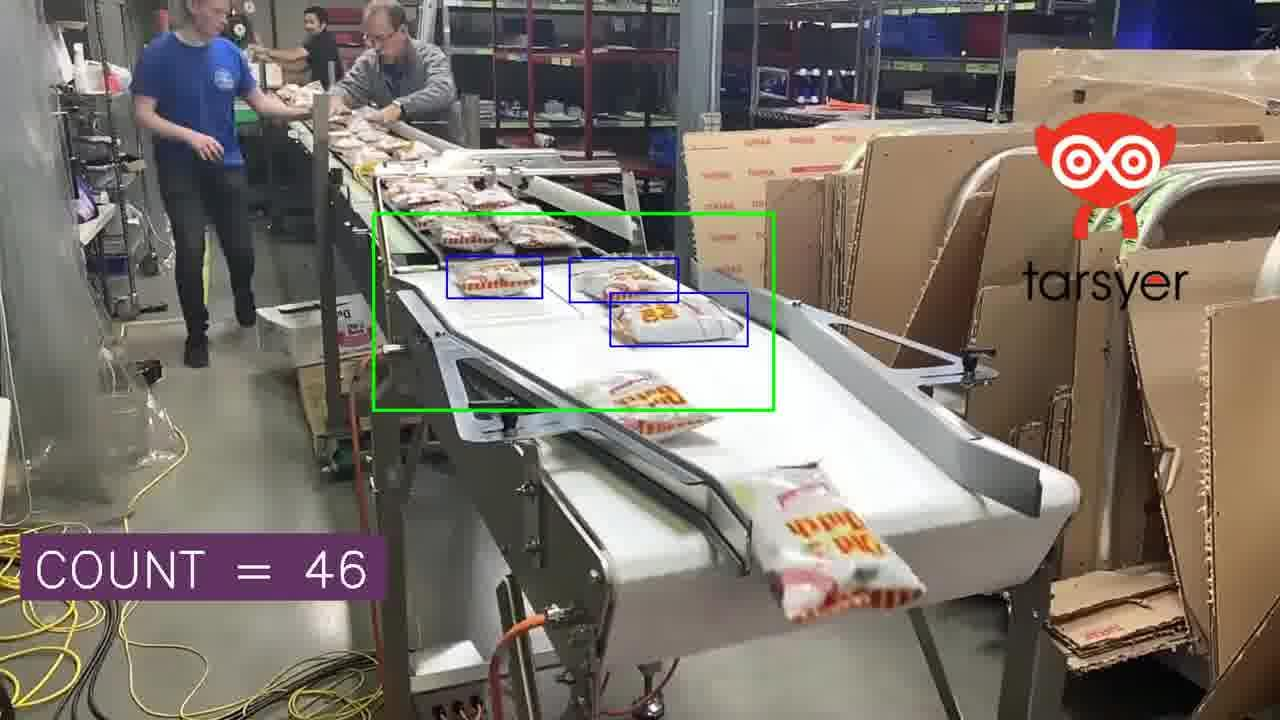Snack: (725, 464, 924, 622), (610, 293, 743, 344), (572, 259, 677, 301), (570, 372, 689, 409), (449, 258, 538, 296), (426, 218, 500, 251), (495, 223, 582, 251), (490, 202, 568, 230), (407, 202, 468, 231), (385, 188, 462, 210), (457, 187, 517, 210), (383, 177, 440, 201), (392, 141, 436, 161), (373, 135, 412, 156), (351, 147, 389, 166), (330, 134, 365, 152), (356, 128, 389, 146), (328, 129, 353, 142)
